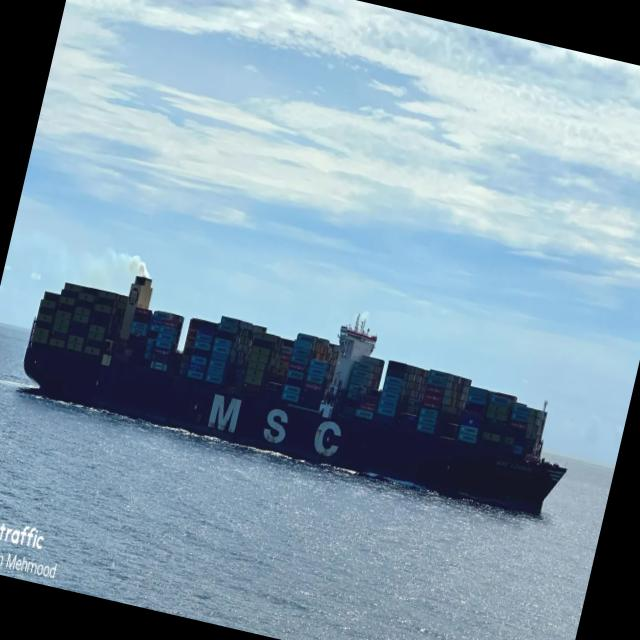Cargo: (23, 276, 565, 515)
